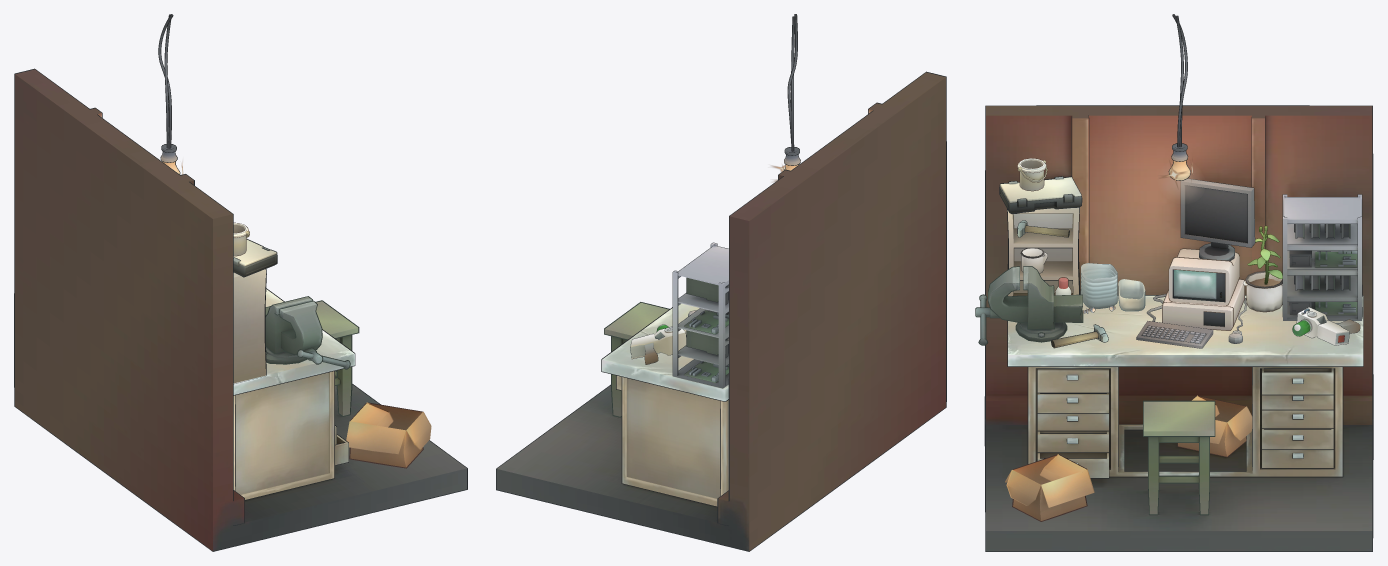
Rendered from workbench-transformed.glb.
The picture shows the model from 3 angles, left to right: view 1: azimuth 30°, elevation 25°; view 2: azimuth 150°, elevation 25°; view 3: azimuth 270°, elevation 25°; orthographic projection. The views are drawn at different scales.
Parts seen in each view (by area): view 1: Plane.011, Plane, Box -2 .001, Cube, Plane.004, Plane.018, BezierCurve.001, Plane.005; view 2: Plane.011, Plane, Plane.013, Plane.018, Plane.008, Plane.014, Plane.015, BezierCurve.001; view 3: Plane.011, Plane, Plane.013, Plane.009, Plane.018, Cube, Plane.017, Box -2 .001, Plane.004, Plane.005, Box -2 _Material.007_0, Plane.010 (+14 smaller).
Part boxes in pixels (bbox=[...]): Plane.011: bbox=[14, 68, 467, 551]; Plane: bbox=[233, 288, 355, 500]; Box -2 .001: bbox=[346, 402, 431, 468]; Cube: bbox=[265, 296, 350, 369]; Plane.004: bbox=[233, 268, 266, 383]; Plane.018: bbox=[316, 300, 359, 416]; BezierCurve.001: bbox=[158, 14, 180, 174]; Plane.005: bbox=[233, 239, 277, 277]; Plane.011: bbox=[496, 71, 946, 551]; Plane: bbox=[601, 303, 728, 506]; Plane.013: bbox=[672, 242, 728, 388]; Plane.018: bbox=[604, 302, 669, 417]; Plane.008: bbox=[630, 324, 686, 364]; Plane.014: bbox=[686, 277, 728, 357]; Plane.015: bbox=[684, 310, 728, 382]; BezierCurve.001: bbox=[784, 14, 800, 170]; Plane.011: bbox=[984, 105, 1373, 551]; Plane: bbox=[1007, 295, 1363, 478]; Plane.013: bbox=[1282, 194, 1362, 320]; Plane.009: bbox=[1162, 248, 1244, 330]; Plane.018: bbox=[1143, 400, 1215, 515]; Cube: bbox=[975, 266, 1083, 345]; Plane.017: bbox=[1180, 178, 1255, 260]; Box -2 .001: bbox=[1005, 454, 1094, 521]; Plane.004: bbox=[1007, 207, 1080, 296]; Plane.005: bbox=[999, 176, 1082, 214]; Box -2 _Material.007_0: bbox=[1178, 395, 1252, 456]; Plane.010: bbox=[1136, 294, 1213, 348].
Bounding box in the file's own units: 1.52 × 2.59 × 2.11.
Materials: 36 (29 with a texture image).
